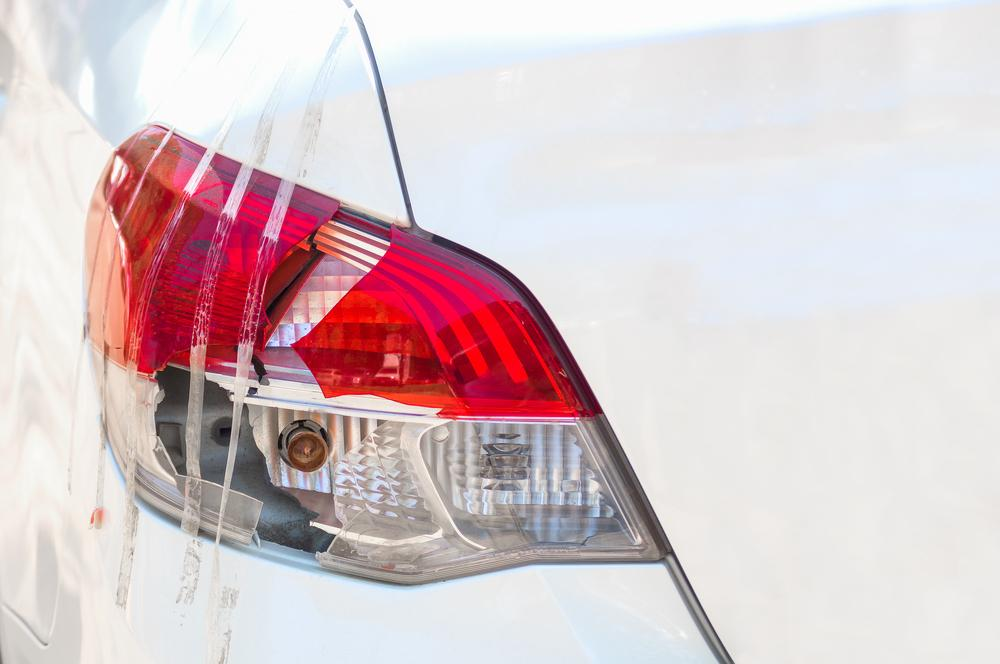lamp broken: (87, 123, 667, 586)
